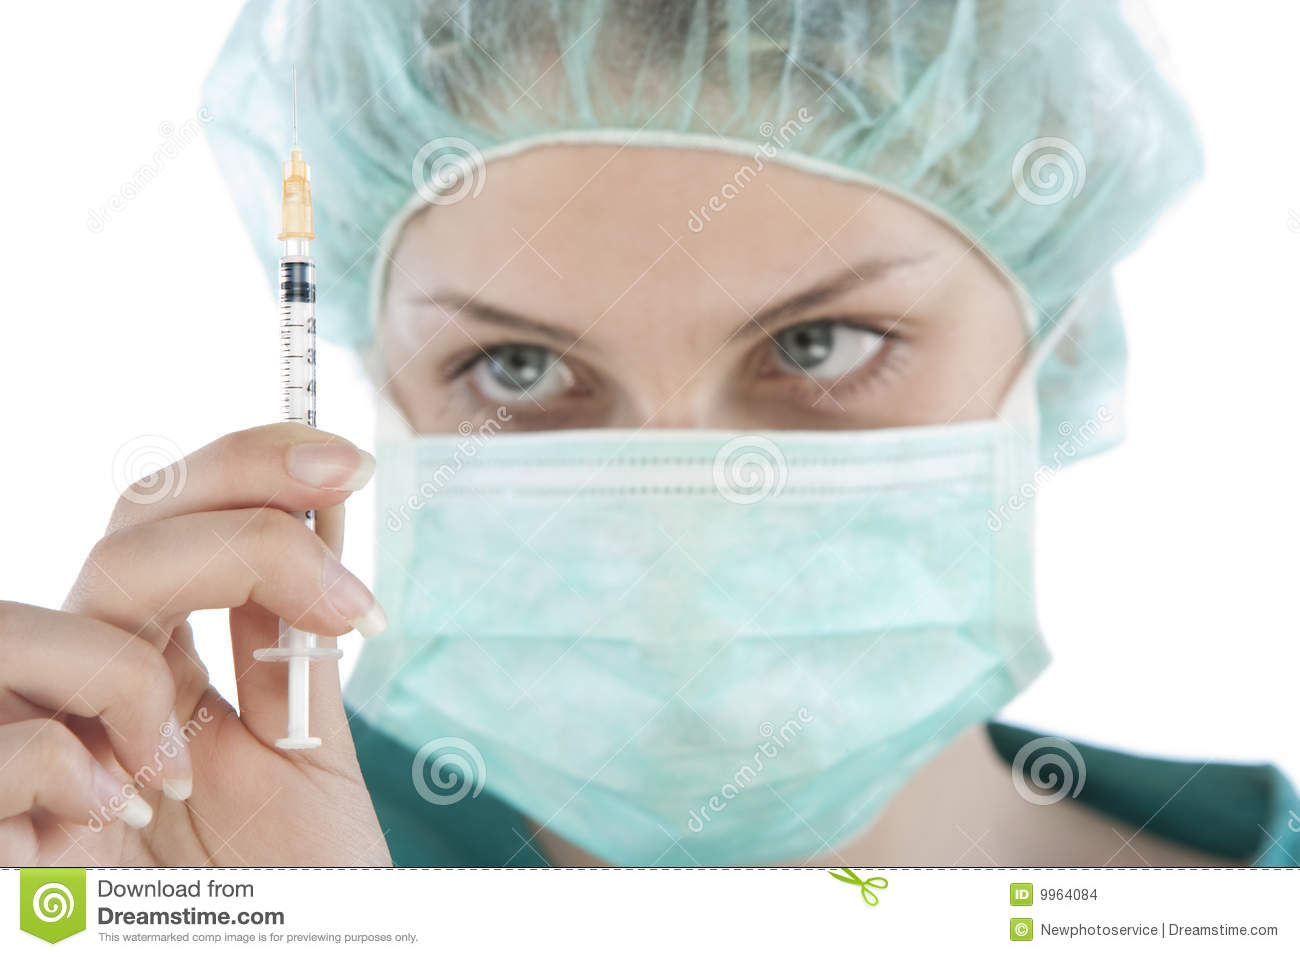mask: (345, 417, 1070, 867)
